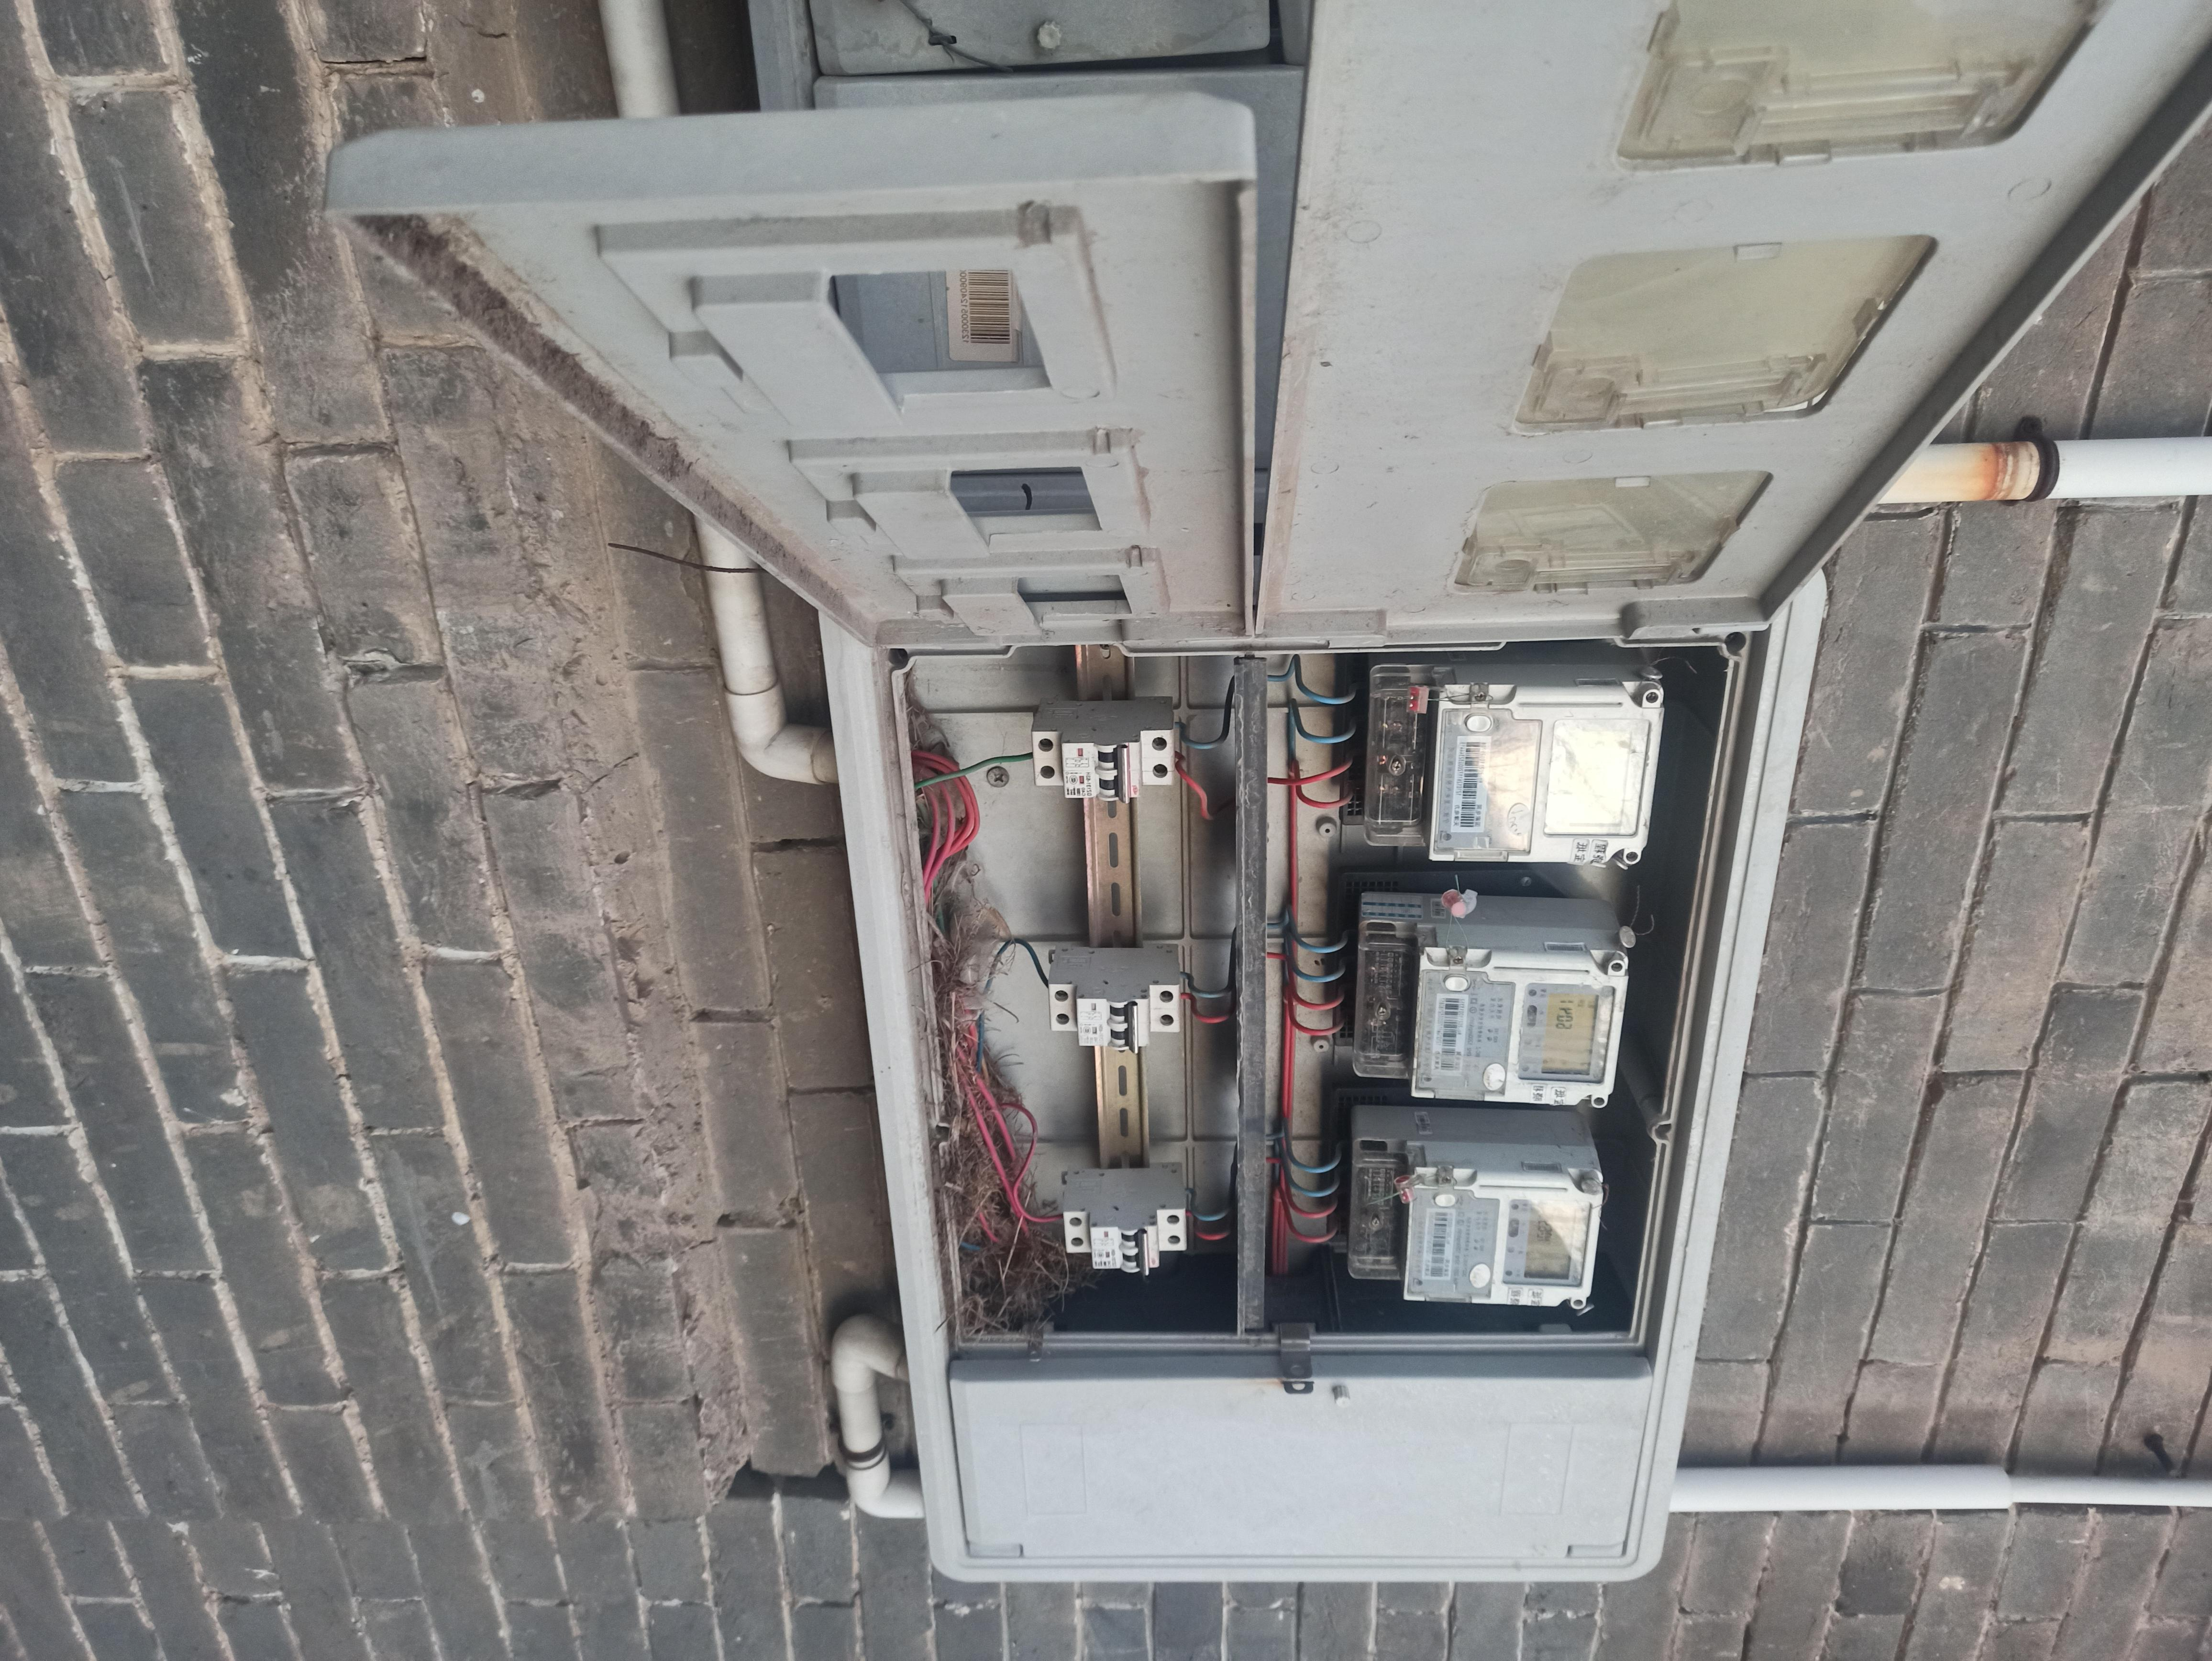digital: (1432, 680, 1657, 858), (1415, 942, 1624, 1101), (1401, 1165, 1596, 1303)
